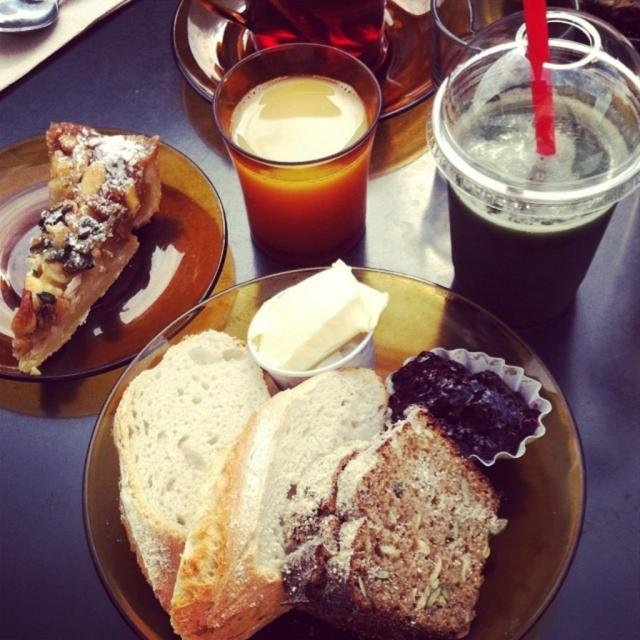Tea: (226, 70, 370, 257)
